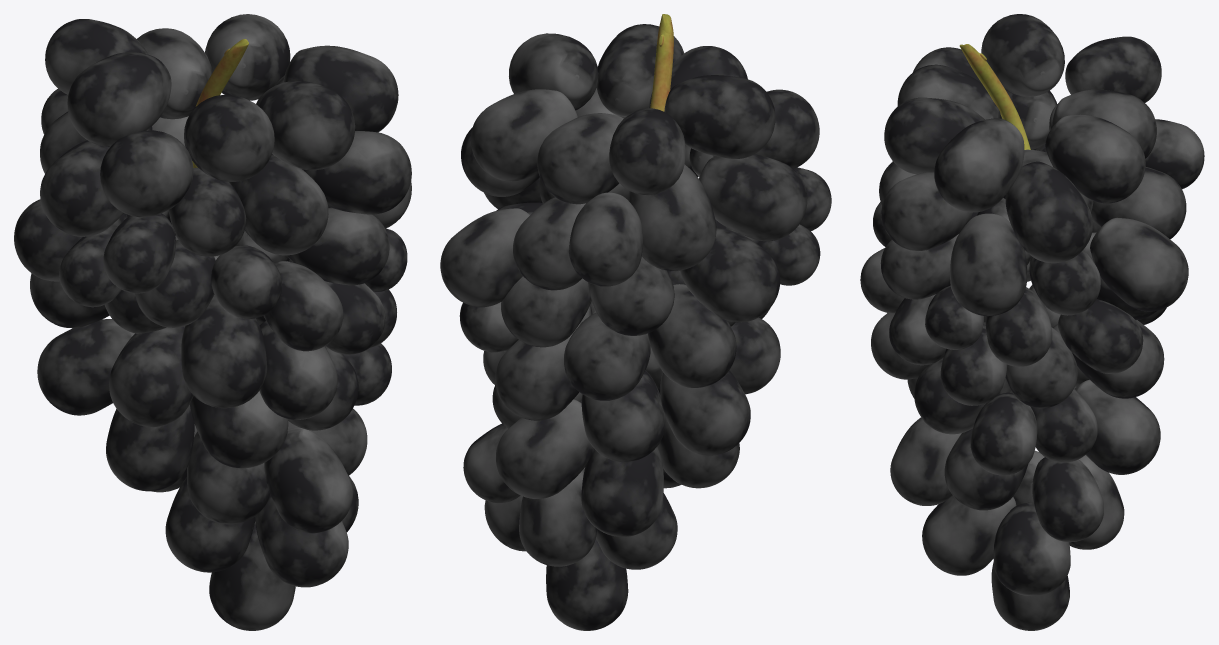
File: grape-0.glb
3 views of the same model, side by side, from view 1: azimuth 30°, elevation 25°; view 2: azimuth 150°, elevation 25°; view 3: azimuth 270°, elevation 25° (orthographic). The views are drawn at different scales.
Visible parts, largest first — view 1: nurbsToPoly10_fruit_0, woodpart_wood_grape_0; view 2: nurbsToPoly10_fruit_0, woodpart_wood_grape_0; view 3: nurbsToPoly10_fruit_0, woodpart_wood_grape_0.
Boxes of the visible parts, x1,y1,x2,y2 form: nurbsToPoly10_fruit_0: (14, 14, 411, 630); woodpart_wood_grape_0: (192, 39, 248, 167); nurbsToPoly10_fruit_0: (440, 24, 831, 630); woodpart_wood_grape_0: (650, 14, 673, 111); nurbsToPoly10_fruit_0: (860, 14, 1204, 630); woodpart_wood_grape_0: (959, 44, 1030, 149).
Size of the model in its own units: 4.31 by 7.44 by 4.11.
Materials: 2 (2 with a texture image).
